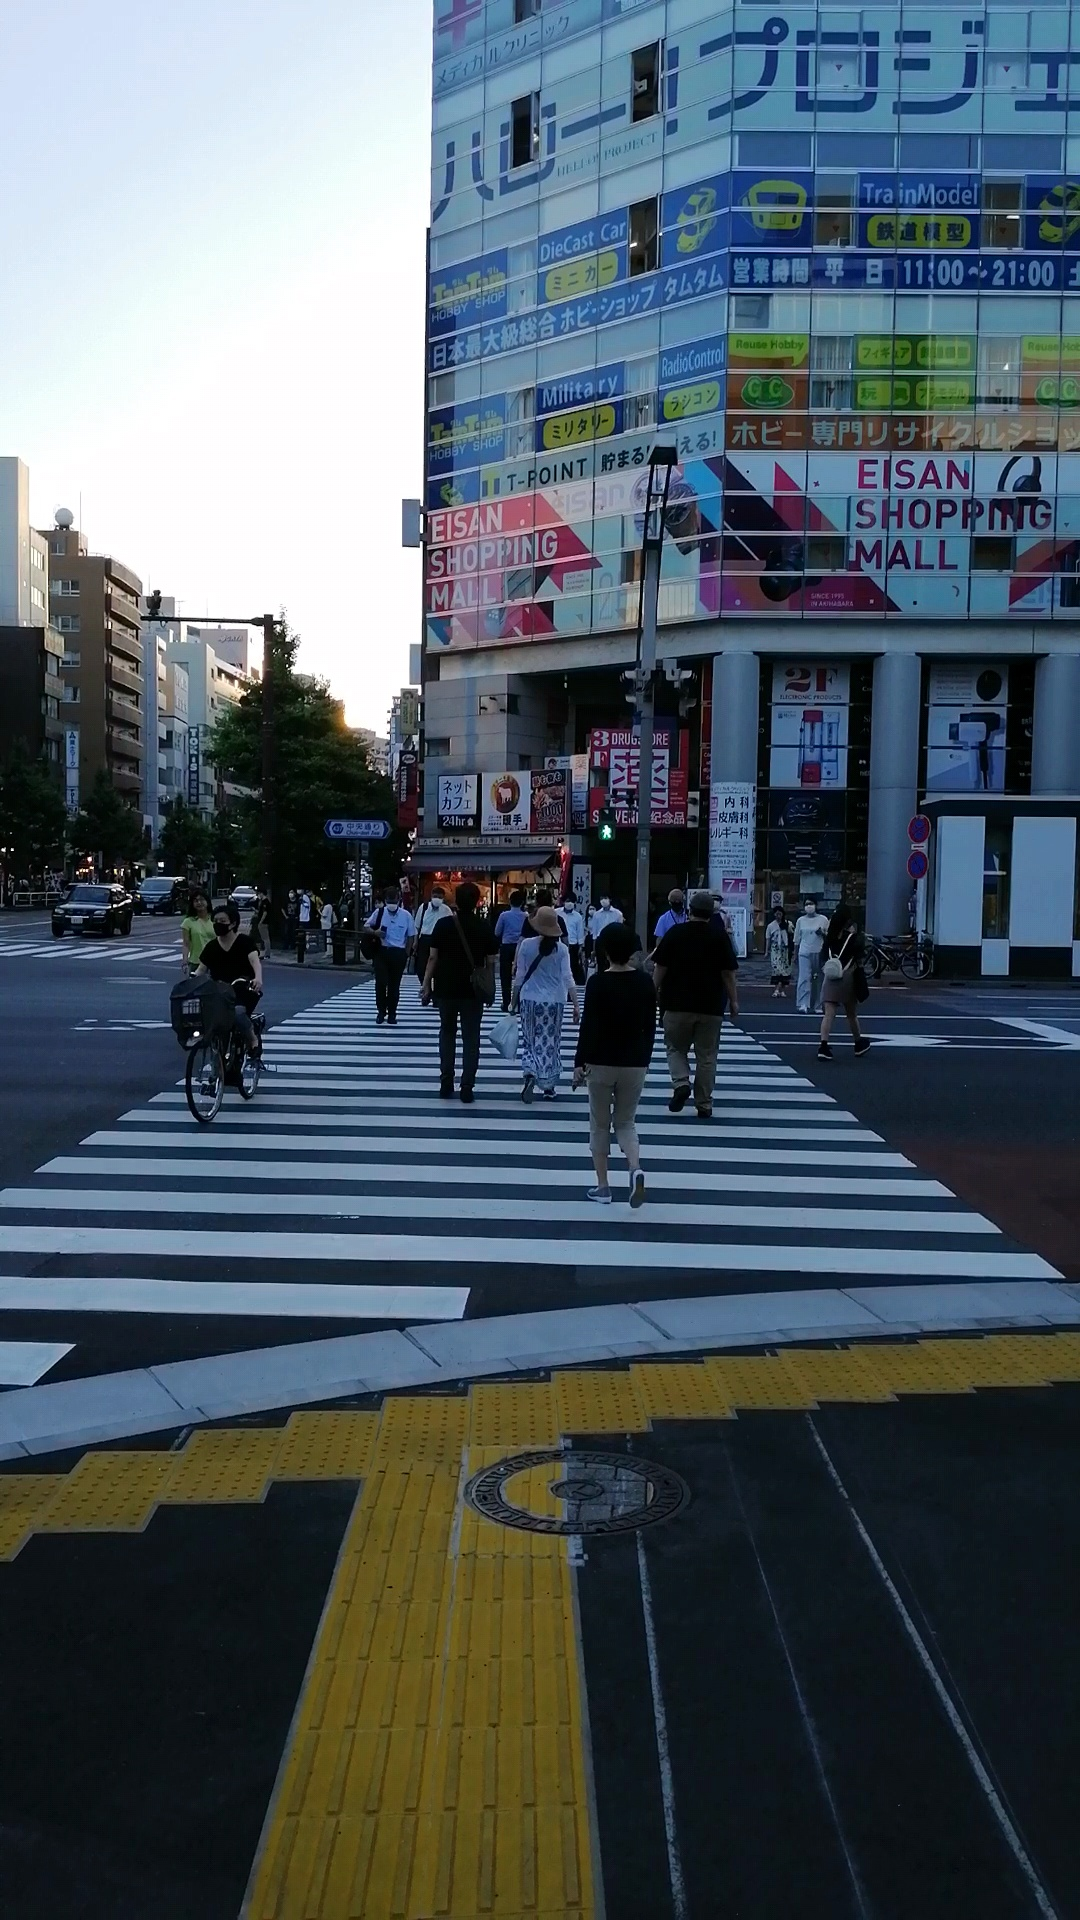green: (597, 807, 616, 843)
